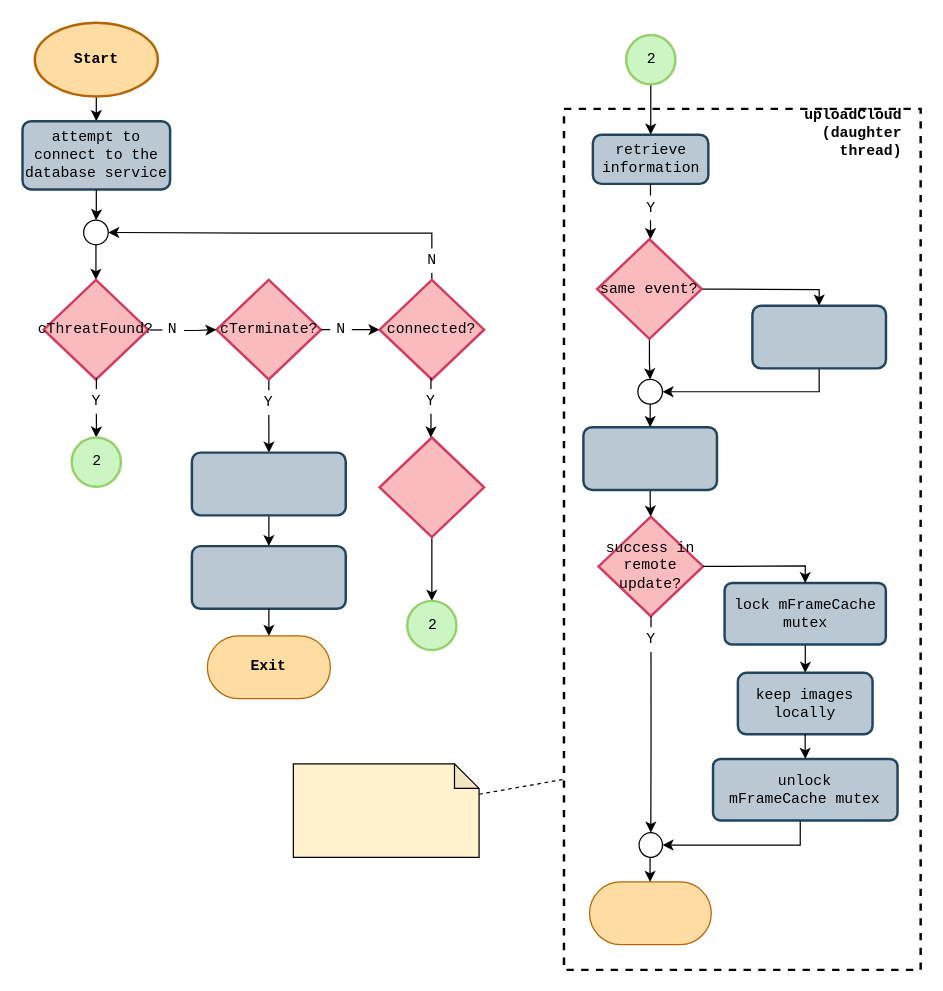
The diagram is 943 pixels wide and 991 high, and some of its shapes have lost their labels. Here are the shapes that lost their labels. From the top down, the centre of each, then its label:
(x=819, y=336): upload previous 4 frames
(x=650, y=458): upload last frame
(x=268, y=483): await daughter threads temination
(x=431, y=487): information still left to upload?
(x=268, y=576): close connection to the cloud service
(x=385, y=810): Multiple daughter threads can be running at the same time.
(x=649, y=913): updateDB: Exit
